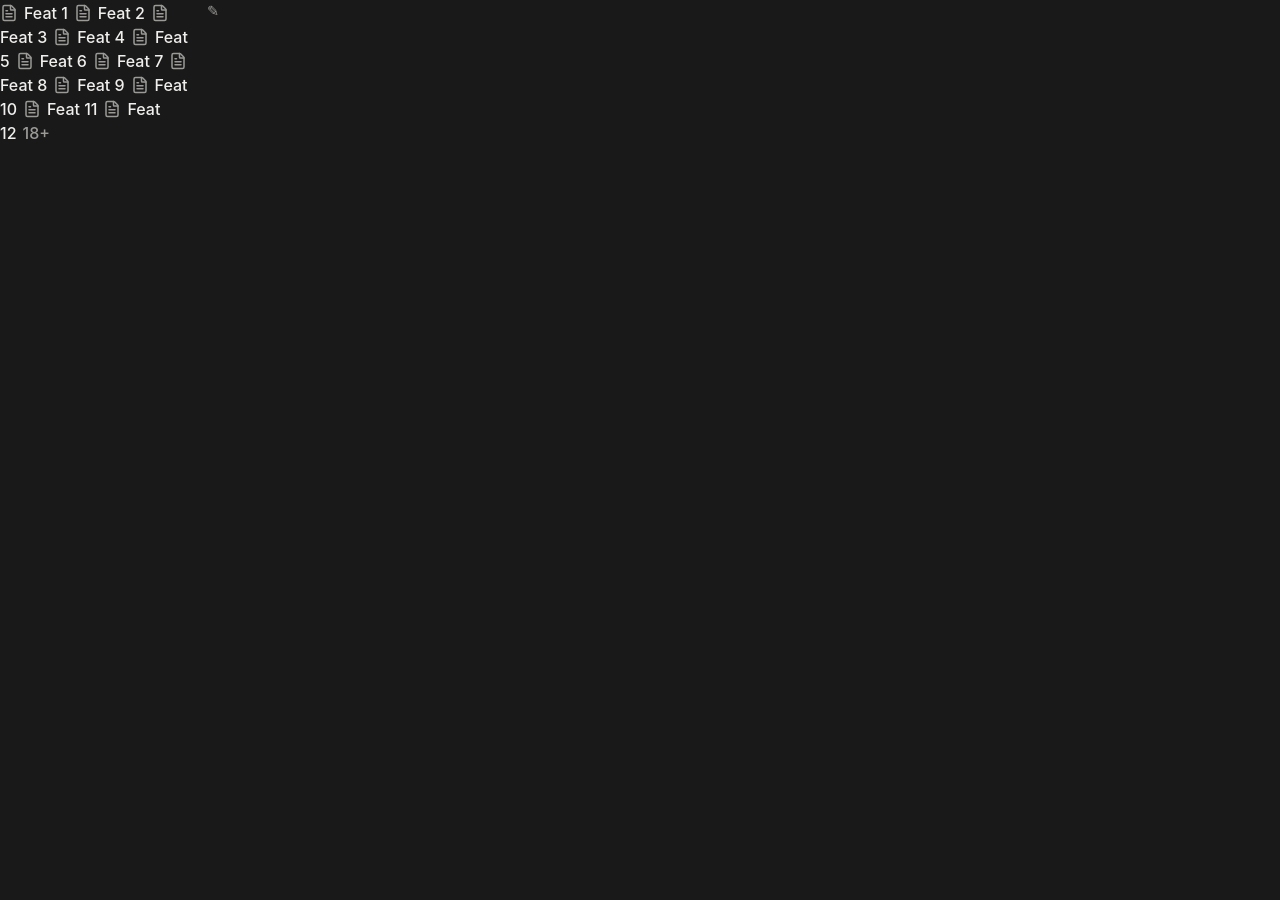
Test case: RelationCellEditor › opens popup when empty links area is clicked beside overflow suffix
This screenshot has width=1280, height=900.
Click the button with class "tome-relation-cell-hit-area": x=98, y=74 [0,0,196,148]
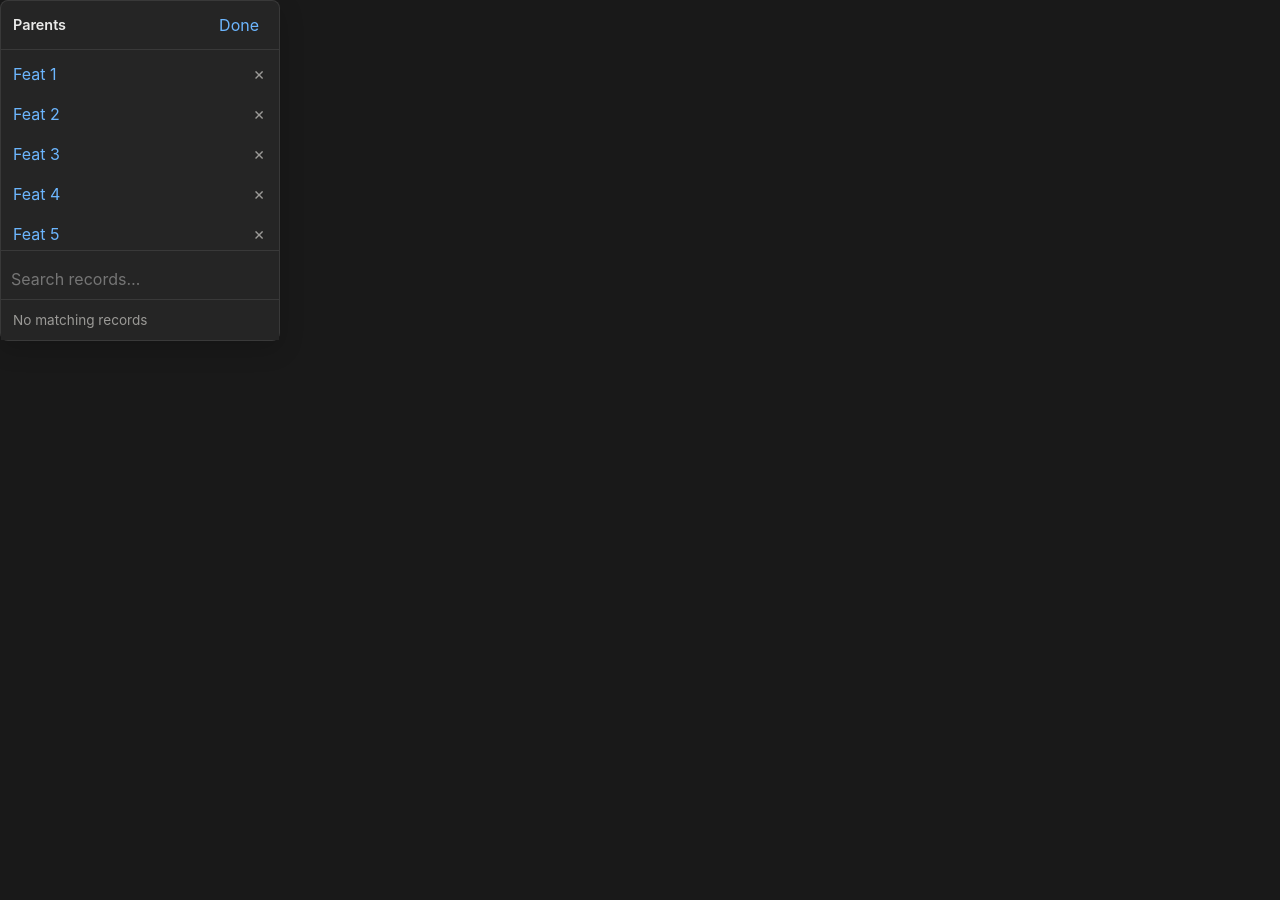
Result: the dialog named "Edit Parents links" is shown at [0,0,280,341]
